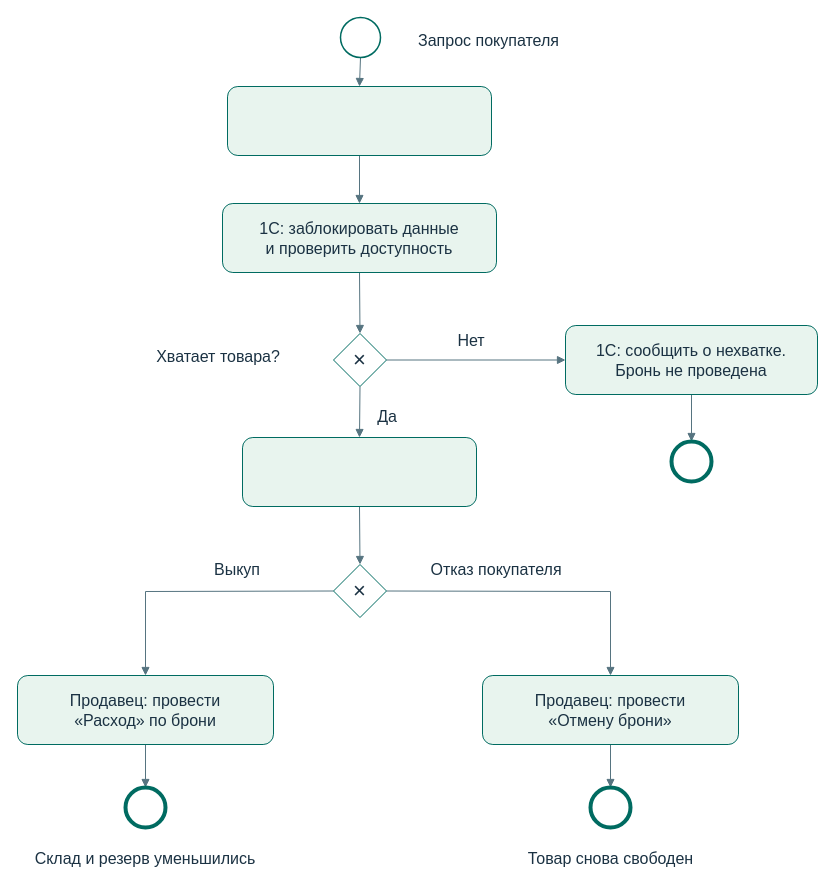
The diagram is 835 pixels wide and 886 high, and some of its shapes have lost their labels. Here are the shapes that lost their labels. From the top down, the centre of each, then its label:
At pixel 359 121: "Продавец: оформить документ «Бронирование»".
At pixel 359 471: "1С: записать резерв".
